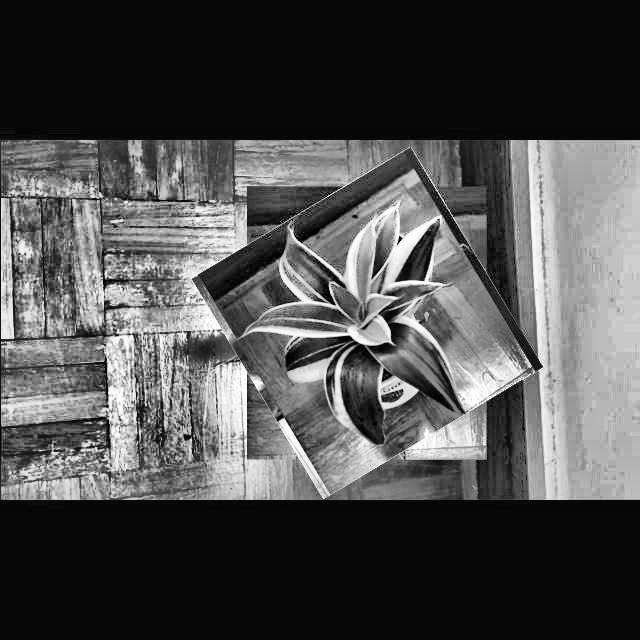plants: (214, 170, 518, 476)
